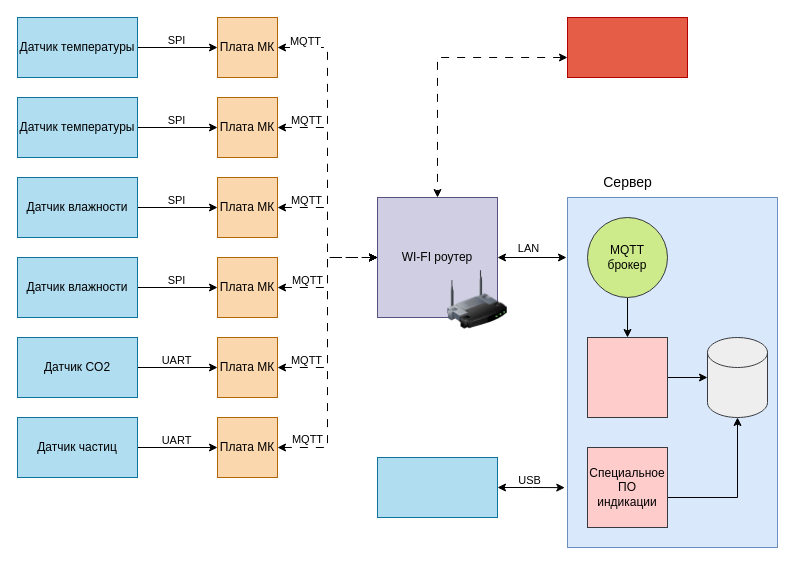
Some shapes in this 795 by 565 pixel diagram are drawn without their labels. Each missing label, with the centre of its shape:
"БД" belongs at (737,377).
"Монитор" belongs at (437,487).
"Сисиема оповещения" belongs at (627,47).
"Специальное ПО" belongs at (627,377).
